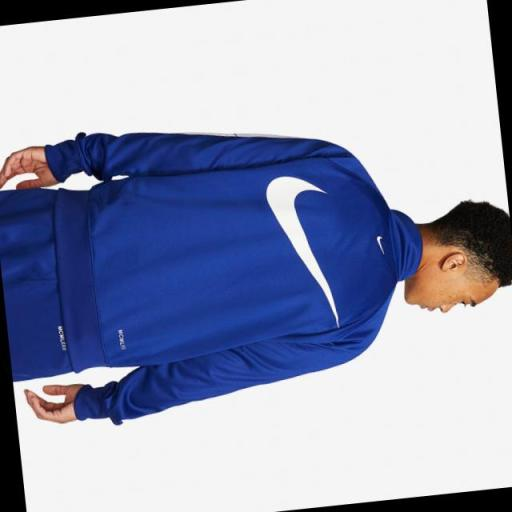Nike: (258, 170, 344, 340)
